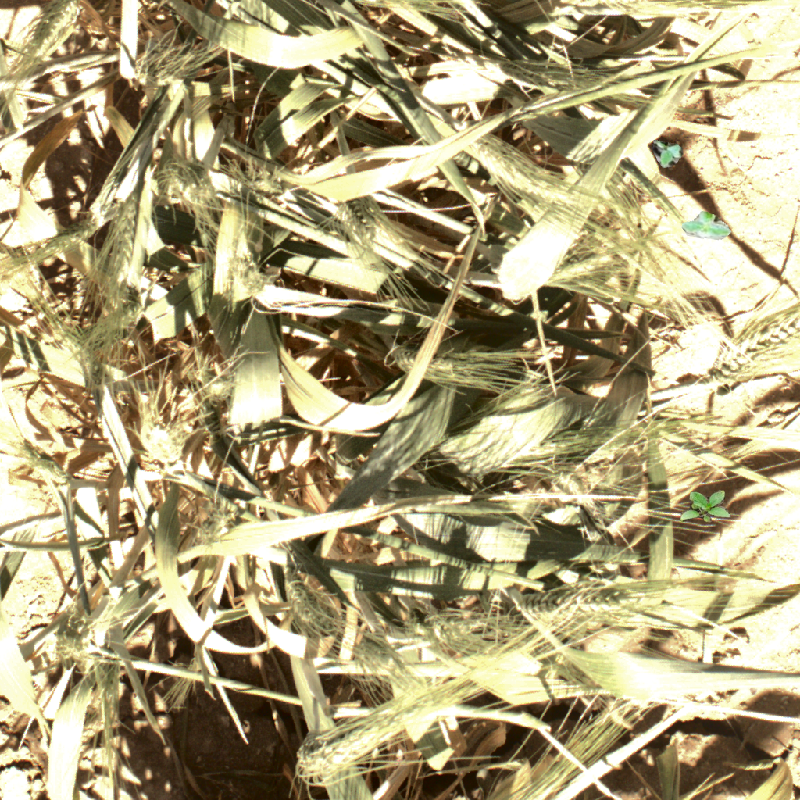spikelet: (291, 699, 422, 783), (467, 135, 565, 206), (332, 198, 421, 272), (270, 553, 340, 637), (1, 217, 107, 272), (711, 314, 800, 379), (8, 440, 80, 499), (392, 350, 488, 389), (25, 1, 86, 59), (338, 637, 405, 687), (513, 594, 635, 618), (170, 162, 219, 216), (111, 199, 141, 282), (138, 418, 185, 467)
weed: (680, 208, 735, 244), (680, 490, 731, 523), (644, 133, 686, 173)
